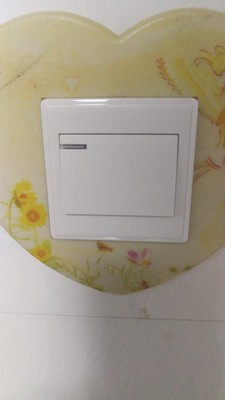switch: (52, 121, 183, 223)
